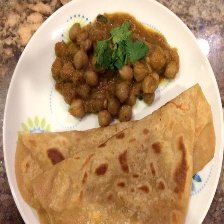roti: (16, 85, 217, 224)
